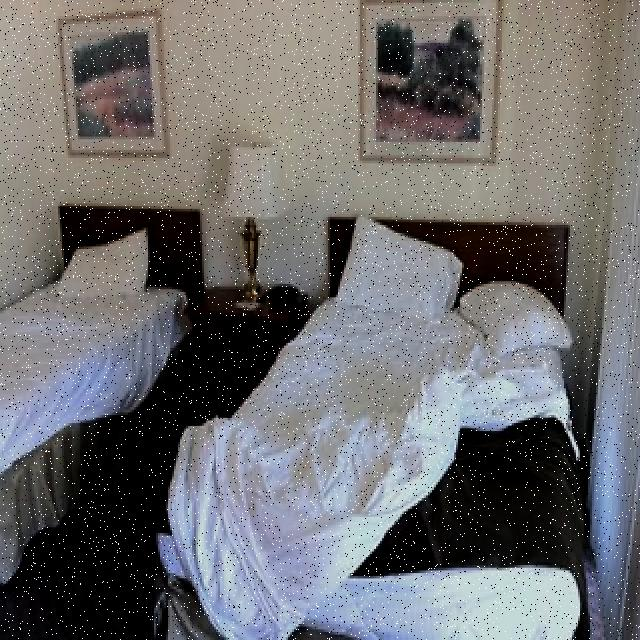bed: (173, 229, 585, 620)
